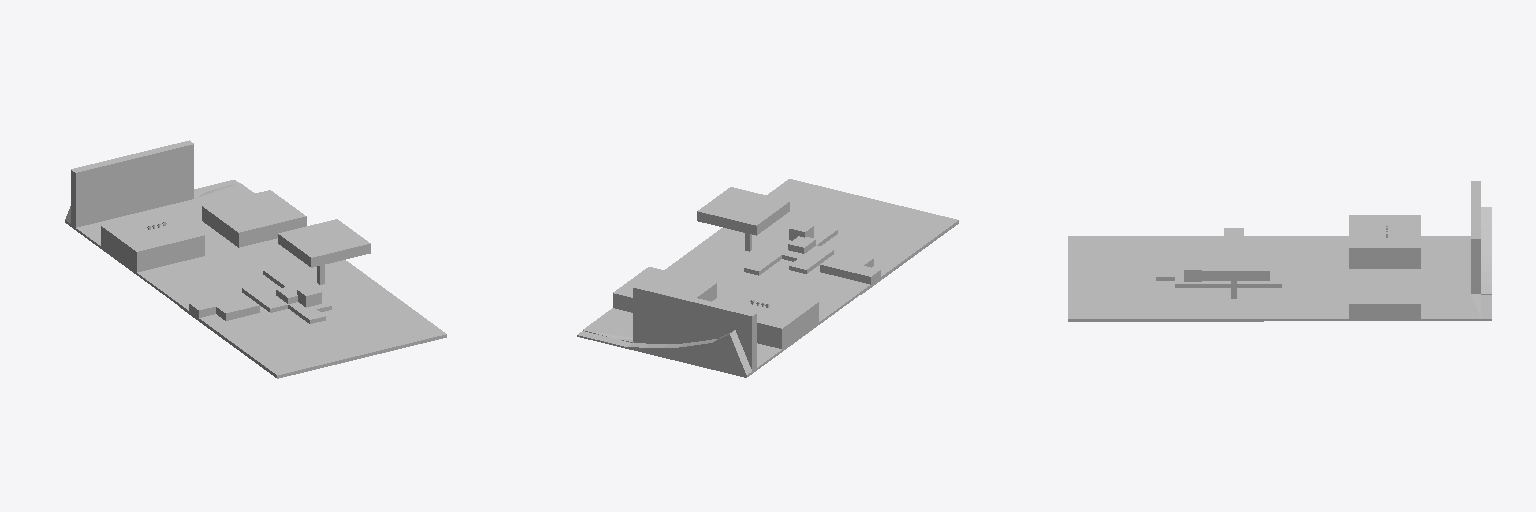
The model's file is test_topo4.obj.
3 renders of one model, left to right at view 1: azimuth 30°, elevation 25°; view 2: azimuth 150°, elevation 25°; view 3: azimuth 270°, elevation 25°, orthographic.
Visible parts, largest first — view 1: Bataille, Terrain; view 2: Bataille, Terrain; view 3: Bataille, Terrain.
Boxes of the visible parts, box(x1,y1,x2,y2) form: Bataille: box(65, 140, 446, 378); Terrain: box(242, 267, 331, 323); Bataille: box(577, 179, 958, 377); Terrain: box(744, 222, 837, 275); Bataille: box(1068, 181, 1491, 321); Terrain: box(1156, 260, 1281, 287).
Bounding box in the file's own units: 42.15 × 16.01 × 91.37.